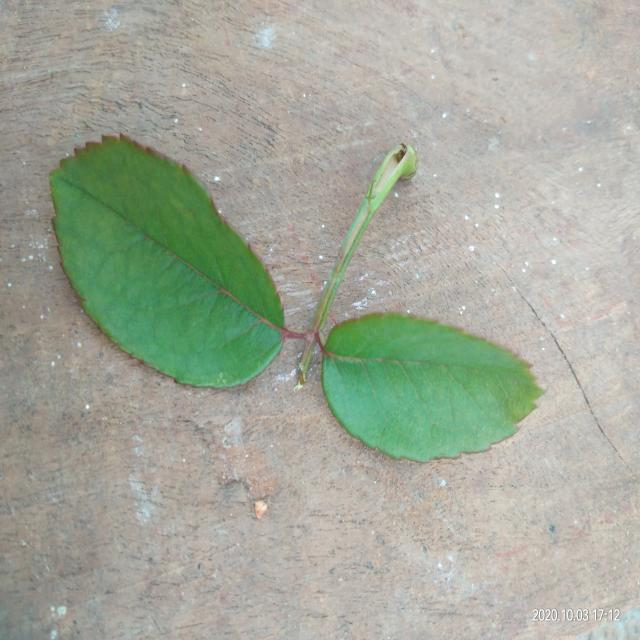rose: (50, 137, 541, 462)
